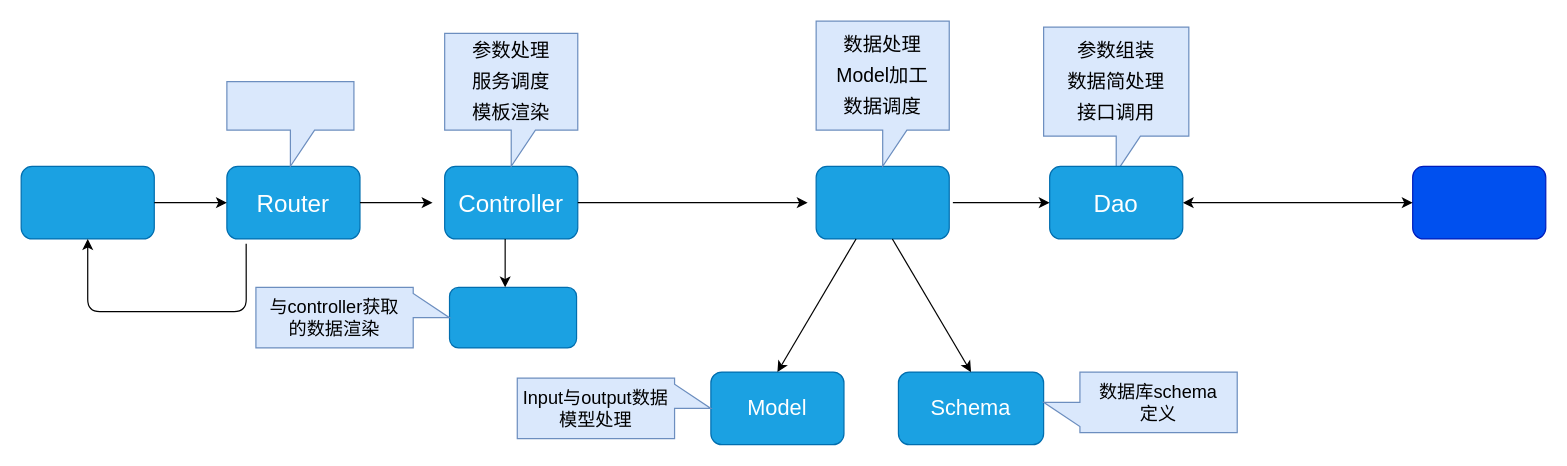
This 1567x466 diagram has some shape labels left out. Each missing label, with the centre of its shape:
"Browser" goes at [87,202].
"Service" goes at [882,202].
"Views" goes at [512,317].
"业务接口" goes at [1478,202].
"路径映射" goes at [290,123].
